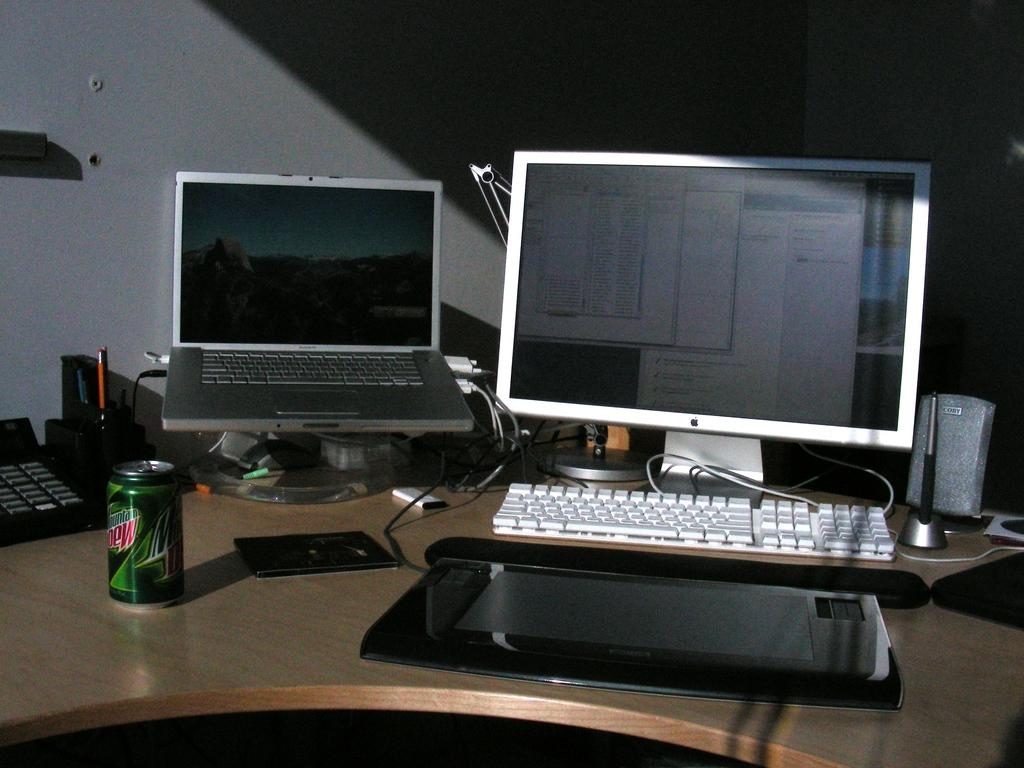Computer-monitor: (493, 152, 928, 502)
